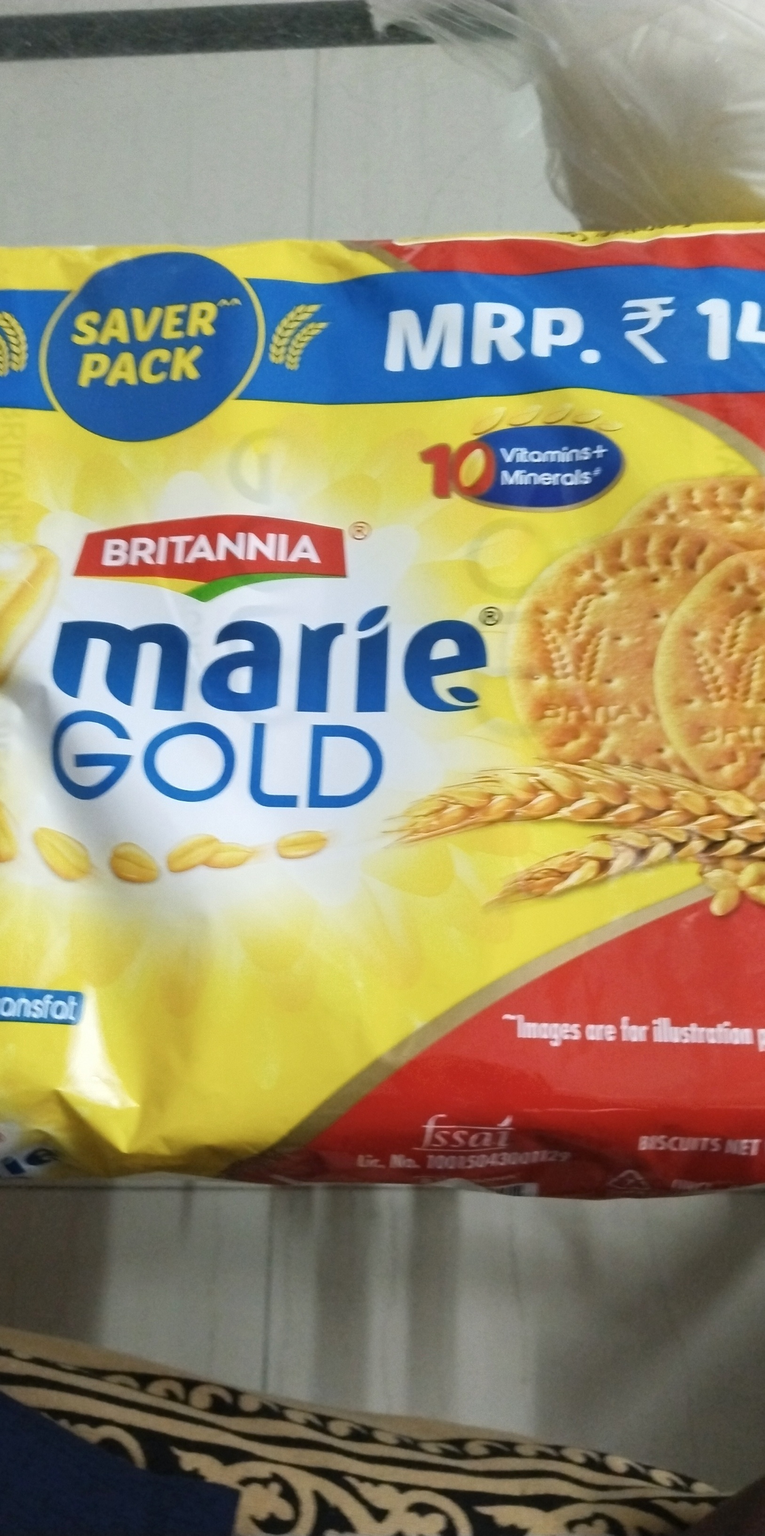Marie Gold: (38, 77, 727, 1459)
